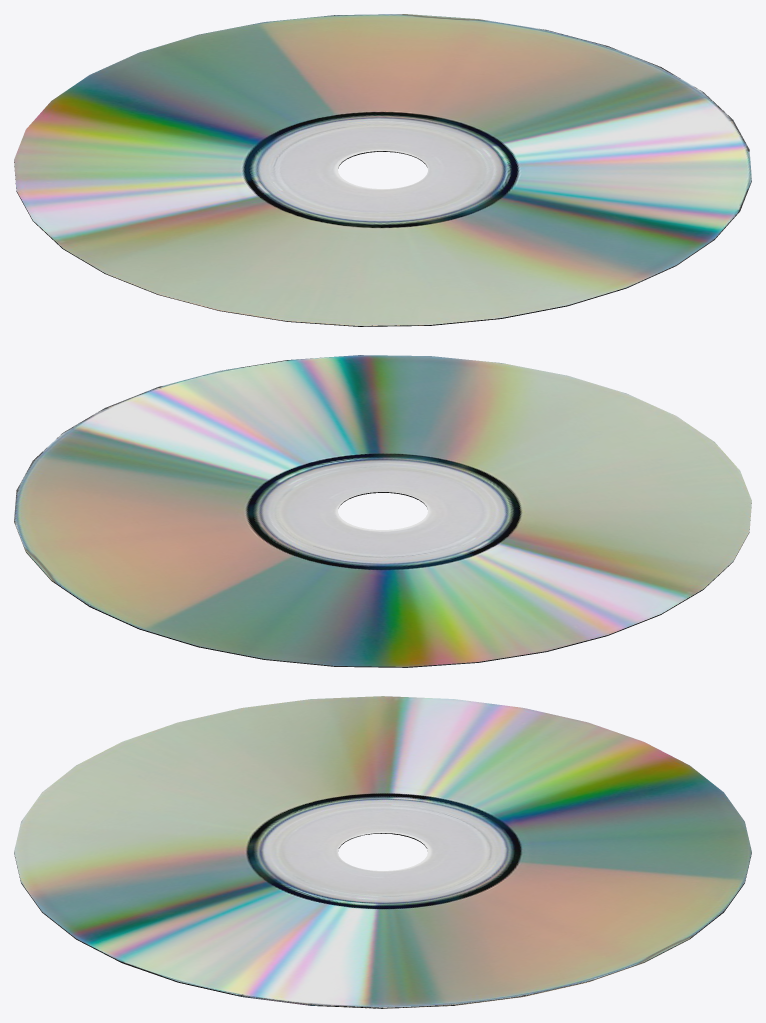
3 views of the same model, one above another, from view 1: azimuth 30°, elevation 25°; view 2: azimuth 150°, elevation 25°; view 3: azimuth 270°, elevation 25° (orthographic).
Parts seen in each view (by area): view 1: Cylinder; view 2: Cylinder; view 3: Cylinder.
Boxes of the visible parts, box(x1,y1,x2,y2) form: Cylinder: box(14, 14, 751, 326); Cylinder: box(14, 355, 751, 667); Cylinder: box(14, 696, 751, 1008).
Size of the model in its own units: 200 by 0.2708 by 200.
Materials: 1 (1 with a texture image).
